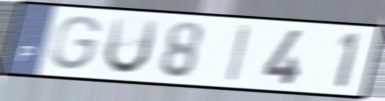1: (335, 30, 362, 91)
4: (260, 26, 304, 87)
8: (159, 19, 207, 80)
G: (49, 14, 103, 72)
I: (224, 23, 254, 85)
U: (102, 15, 163, 77)
